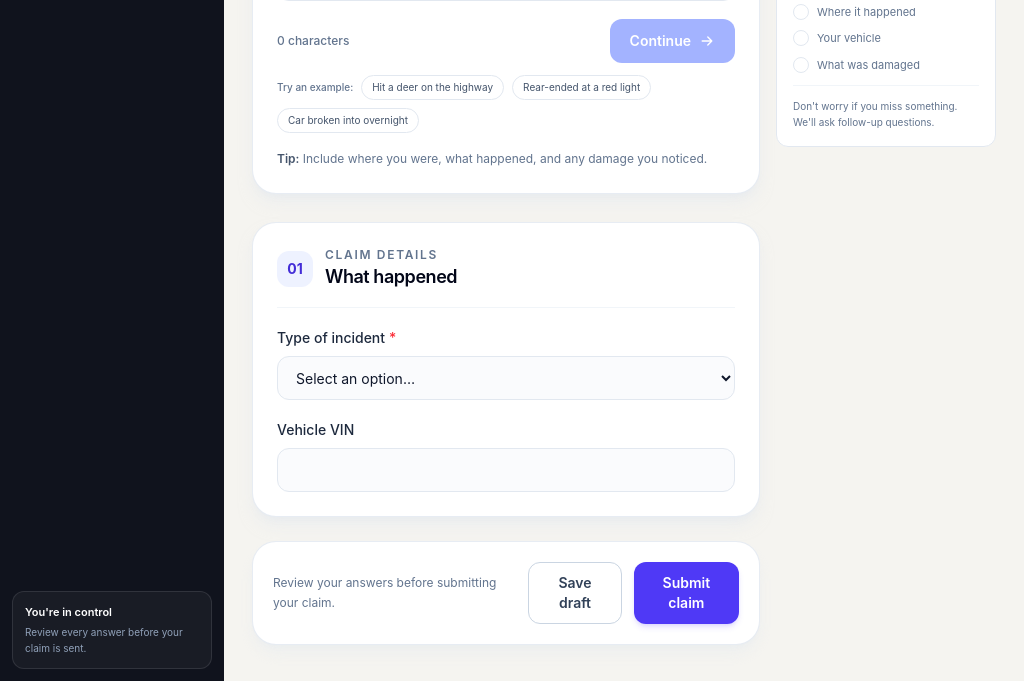
Scenario: ClaimPage draft and submission flow › shows a network failure when saving and preserves entered answers
(page scrolled)
Select "Collision with a vehicle" in the dropdown labelled "Type of incident": [506, 378] box [277,356,735,400]
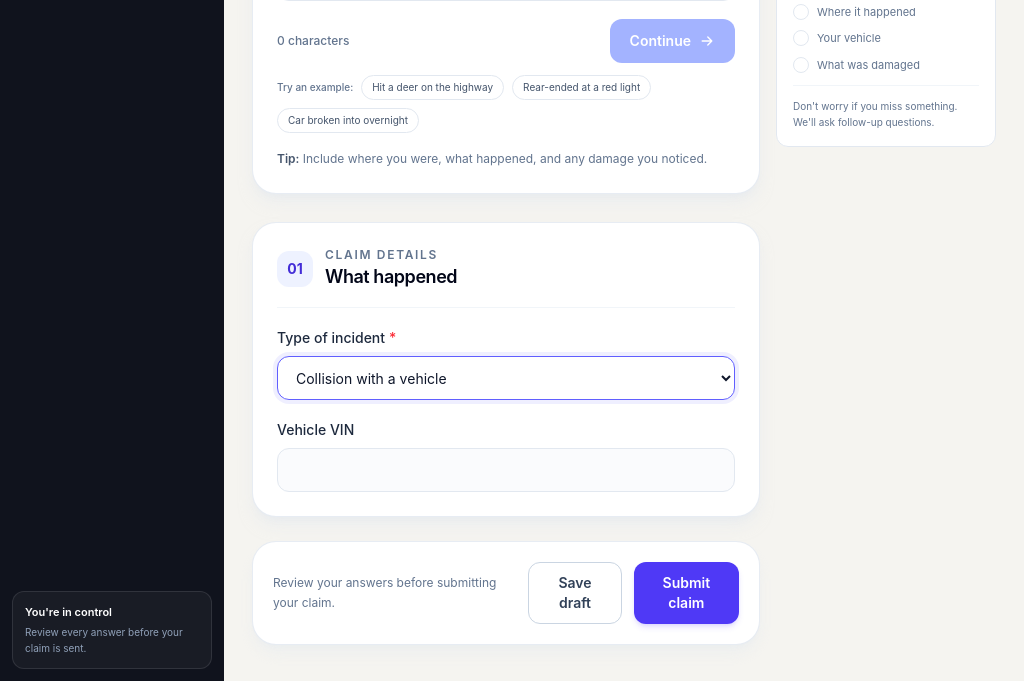
Click the button "Save draft": [575, 593] box [528,562,622,624]
(page scrolled)
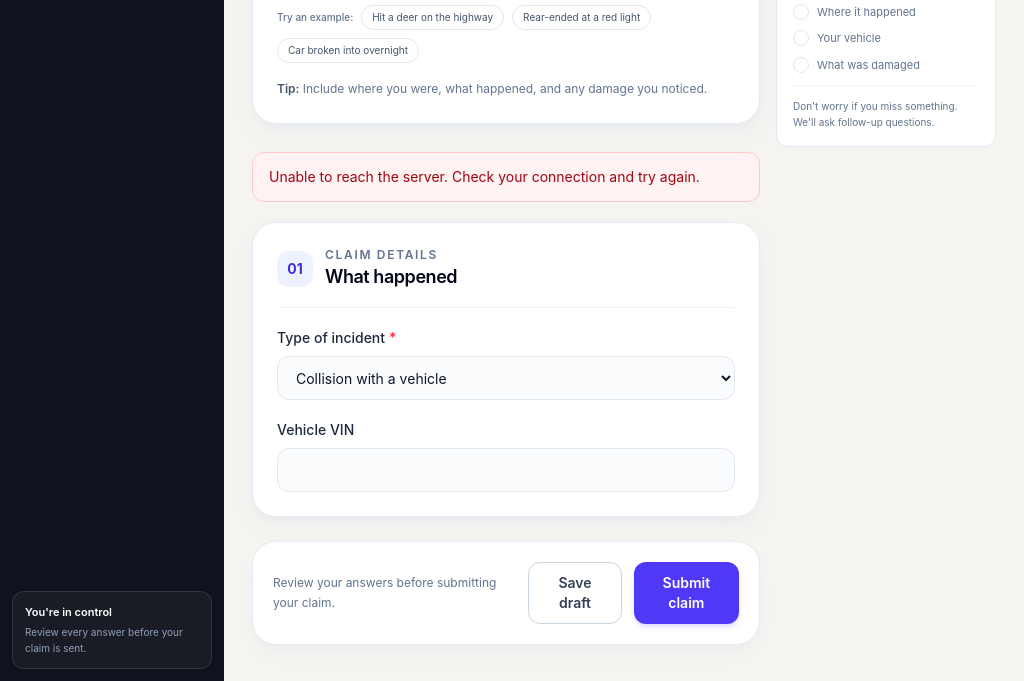
Expected: the text "Unable to reach the server. Check your connection and try again." is shown, [252,152,760,202]
